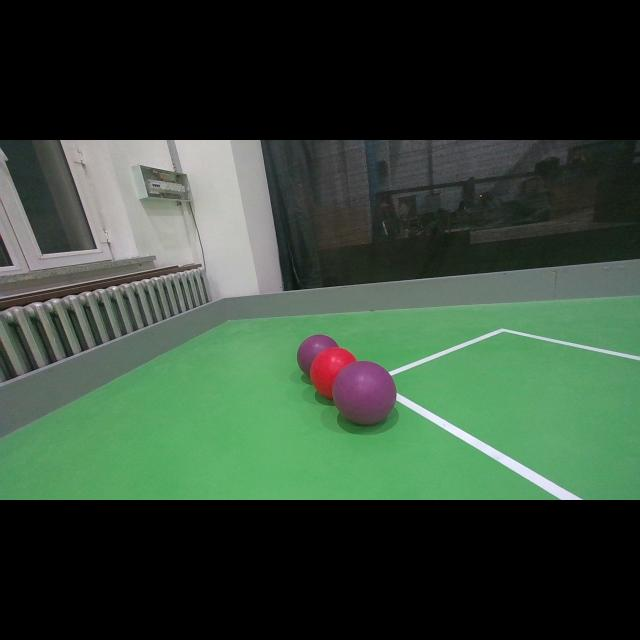P: (332, 361, 396, 425), (295, 330, 325, 350)
R: (310, 348, 358, 398)
